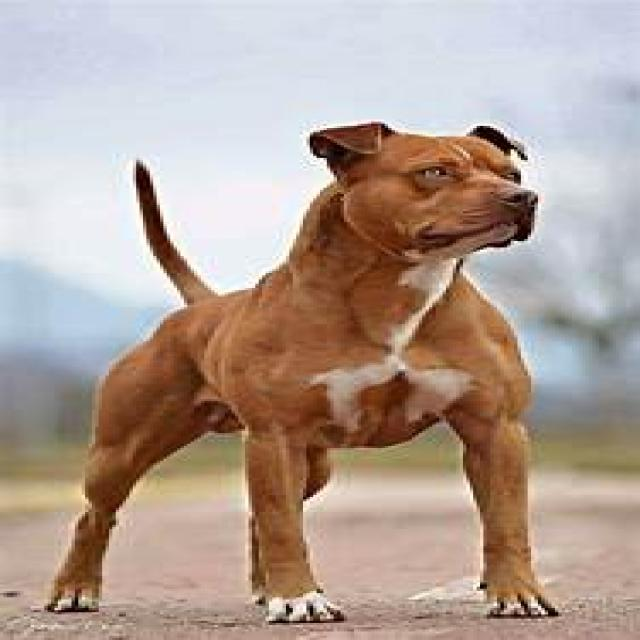dog: (41, 122, 558, 625)
